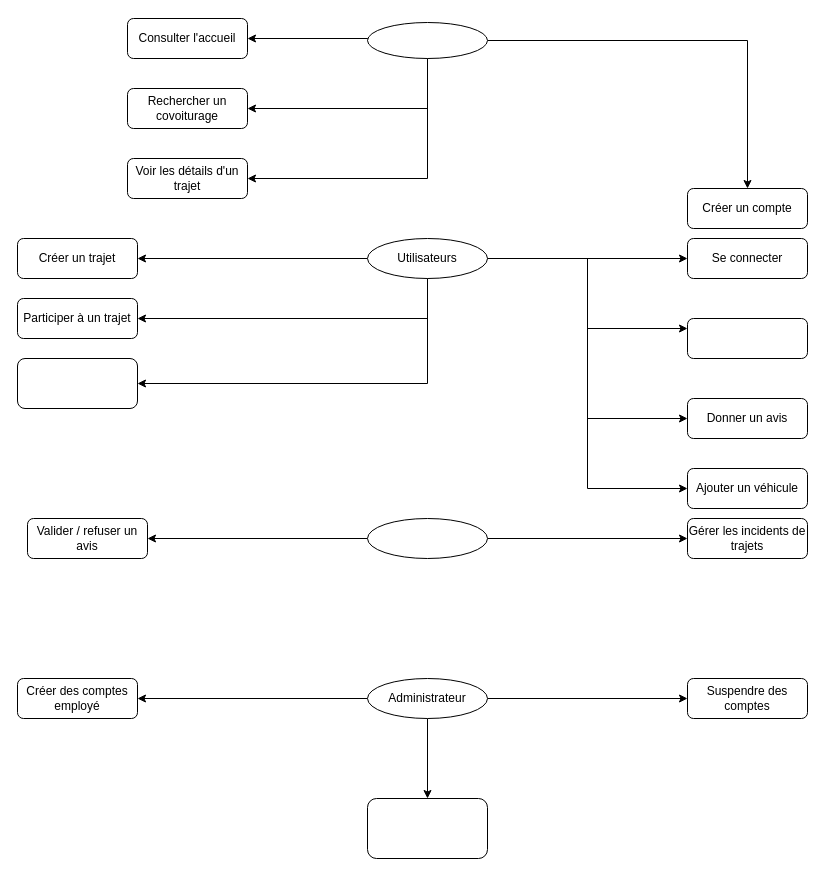
Image size: 825x876. Some labels were removed from this diagram. Here are the shapes that lost their labels. From the top down, the centre of each, then its label:
At [427,40]: "Visiteurs".
At [747,338]: "Modifier profil".
At [77,383]: "Gérer ses trajets (Annuler, voir l'historique)".
At [427,538]: "Employés".
At [427,828]: "Voir les statistiques de la plateforme".
